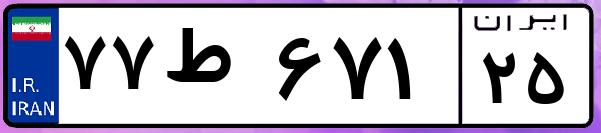1: (385, 28, 445, 110)
2: (475, 38, 525, 113)
5: (525, 38, 570, 115)
6: (270, 28, 330, 110)
7: (330, 28, 385, 110), (57, 26, 110, 100), (110, 28, 158, 98)
ط: (158, 20, 270, 120)
